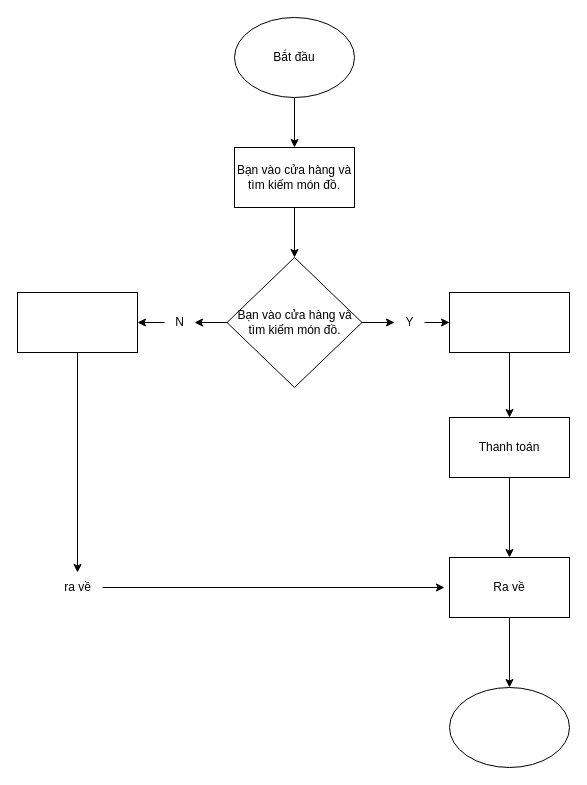
Image size: 587x785. Some labels were removed from this diagram. The centre of each missing label's shape, as x and y in pixels:
Hỏi nhân viên/ra về: the point at 77,322
kết thúc: the point at 509,727
Mua món đồ: the point at 509,322
